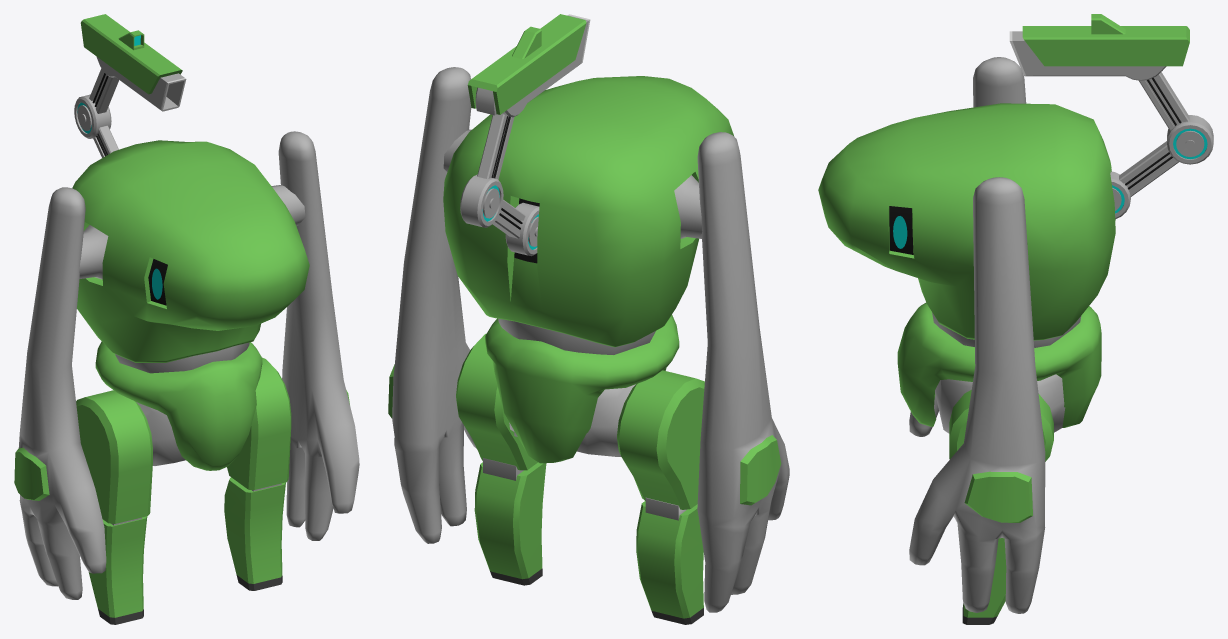
File: Wait_01.fbx
The picture shows the model from 3 angles, left to right: view 1: azimuth 30°, elevation 25°; view 2: azimuth 150°, elevation 25°; view 3: azimuth 270°, elevation 25°; orthographic projection. The views are drawn at different scales.
Parts seen in each view (by area): view 1: atama1, L_ude2, L_ude1, kosi1, L_asi6, L_asi3, pCylinder14, L_asi2, L_asi5, pCylinder5, pCylinder13, pCylinder11; view 2: atama1, L_ude2, L_ude1, kosi1, L_asi6, L_asi3, pCylinder14, L_asi5, L_asi2, pCylinder5, pCylinder13, pCylinder6 (+1 smaller); view 3: atama1, L_ude1, kosi1, pCylinder14, L_ude2, pCylinder5, L_asi2, pCylinder11, L_asi3, pCylinder13, pCylinder6.
Boxes of the visible parts, x1,y1,x2,y2 form: atama1: (72,140,309,373); L_ude2: (14,187,106,599); L_ude1: (278,131,359,540); kosi1: (95,341,262,470); L_asi6: (76,390,152,525); L_asi3: (224,477,285,590); pCylinder14: (80,14,186,111); L_asi2: (227,357,291,491); L_asi5: (88,516,147,624); pCylinder5: (74,94,111,138); pCylinder13: (89,68,118,113); pCylinder11: (93,125,118,157); atama1: (443,76,734,354); L_ude2: (697,132,789,612); L_ude1: (388,67,476,543); kosi1: (485,315,679,463); L_asi6: (617,370,704,520); L_asi3: (474,462,546,585); pCylinder14: (467,14,590,117); L_asi5: (636,501,703,624); L_asi2: (456,333,537,480); pCylinder5: (460,174,503,227); pCylinder13: (477,114,514,179); pCylinder6: (505,202,539,256); atama1: (818,103,1115,347); L_ude1: (909,177,1045,613); kosi1: (897,302,1101,433); pCylinder14: (1009,14,1189,80); L_ude2: (909,57,1026,436); pCylinder5: (1167,115,1213,164); L_asi2: (949,390,1053,461); pCylinder11: (1119,141,1178,196); L_asi3: (962,538,1006,624); pCylinder13: (1139,72,1189,130); pCylinder6: (1110,171,1130,219).
Size of the model in its own units: 2.15 by 3.42 by 2.17.
